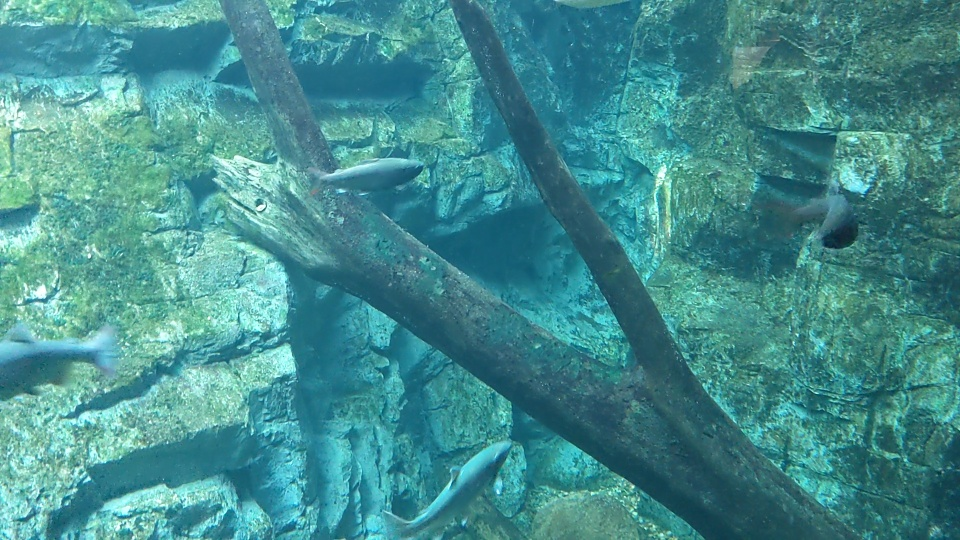Fish: (383, 434, 512, 534), (0, 318, 119, 401), (305, 147, 424, 200), (765, 183, 856, 252)
